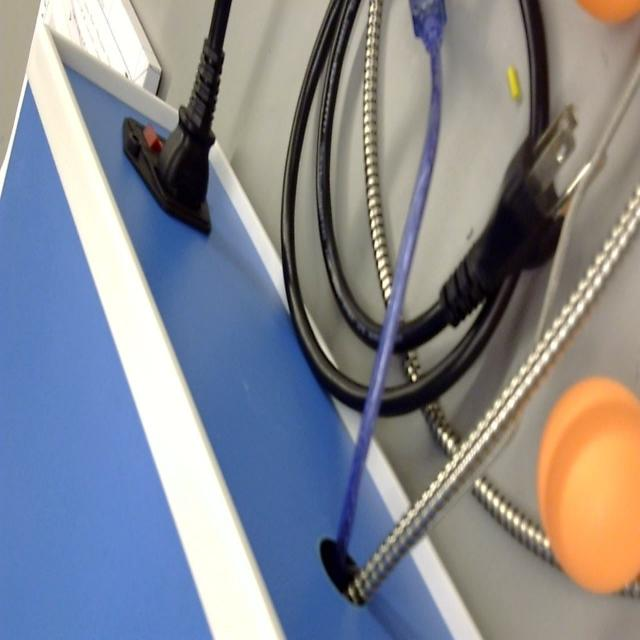ball: (535, 374, 640, 596), (575, 0, 640, 31)
